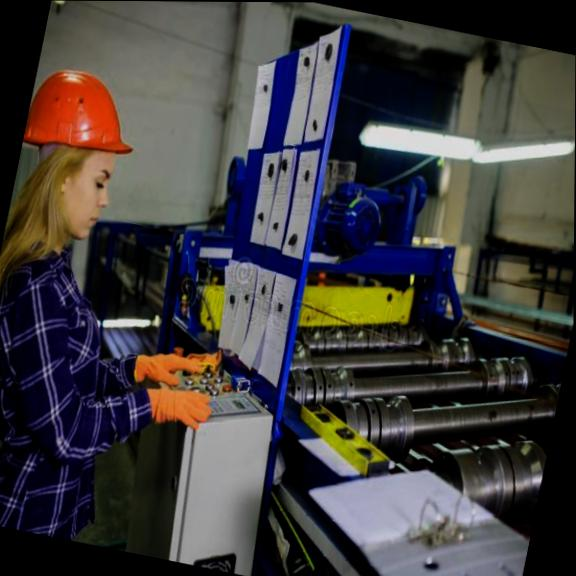no_safety_vest: (0, 230, 133, 541)
